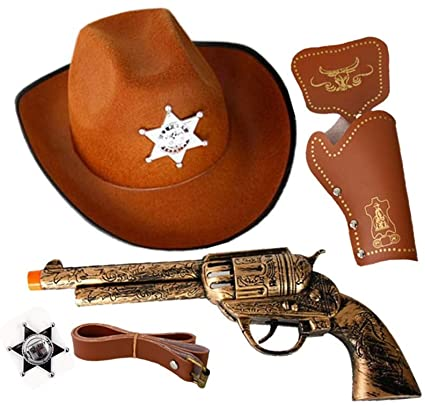Arma Falsa: (24, 247, 424, 401)
